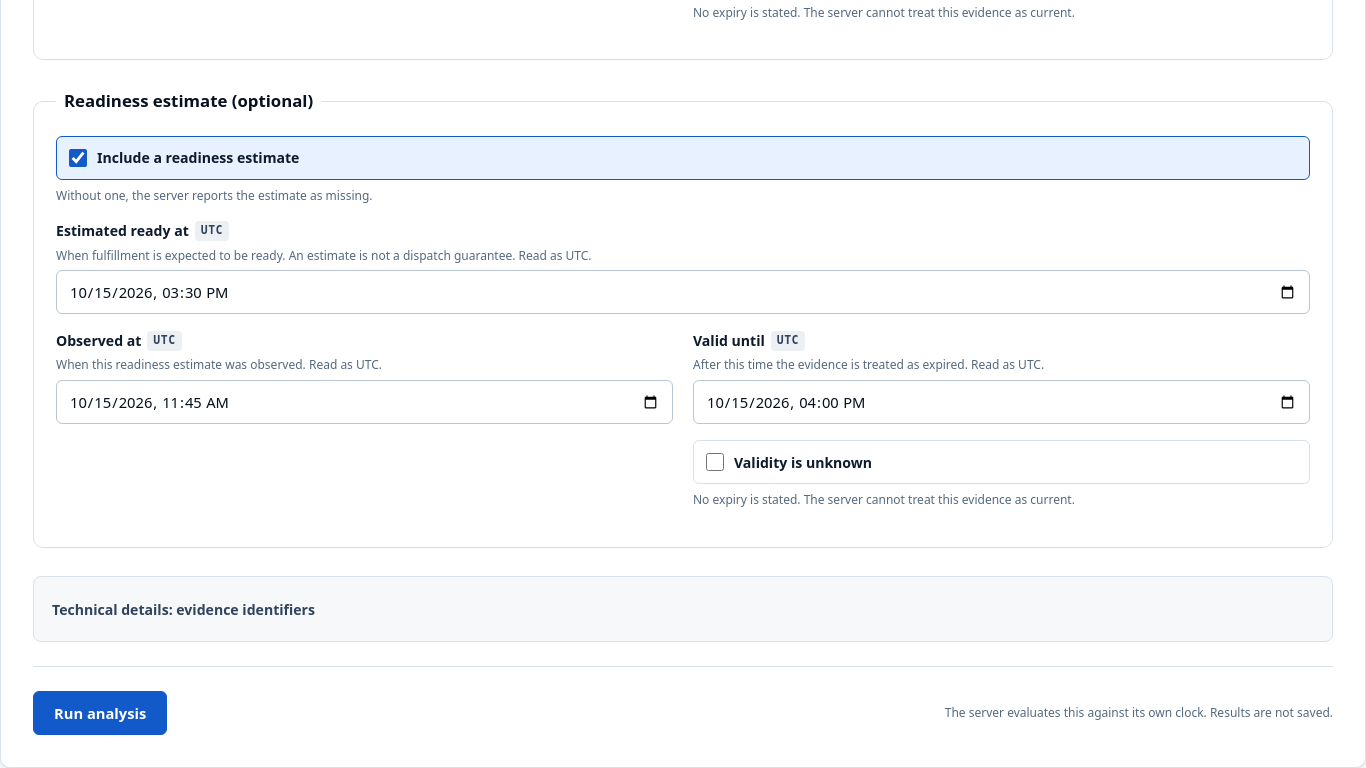
Test case: PromiseGuardWorkspace regression and safety suite › Network failures, API error envelopes, and recovery (Workstream C) › surfaces 400 API fieldErrors inline and in the ErrorSummary
(page scrolled)
Click the button "Run analysis" at (100, 713), box [33,691,167,735]
(page scrolled)
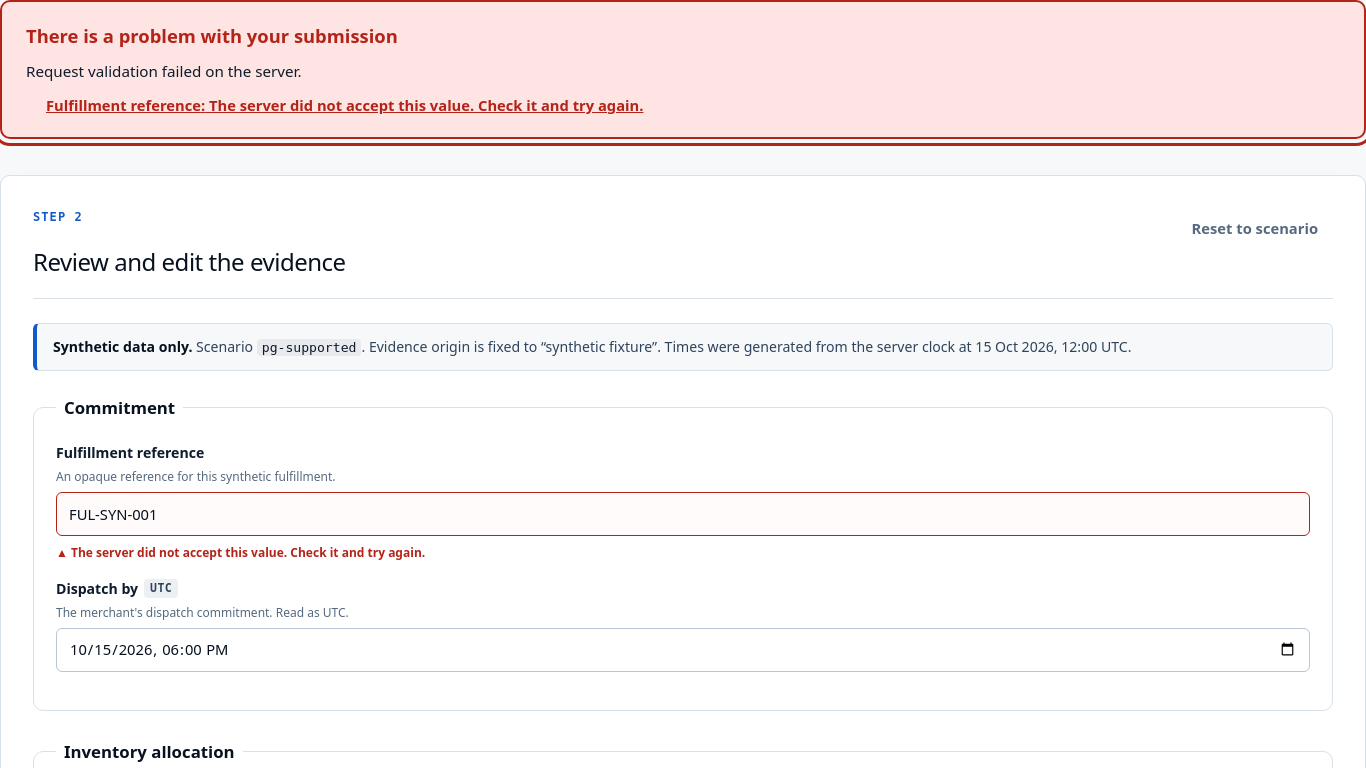
Now the text "Request validation failed on the server." is shown, box [26,61,302,81]
